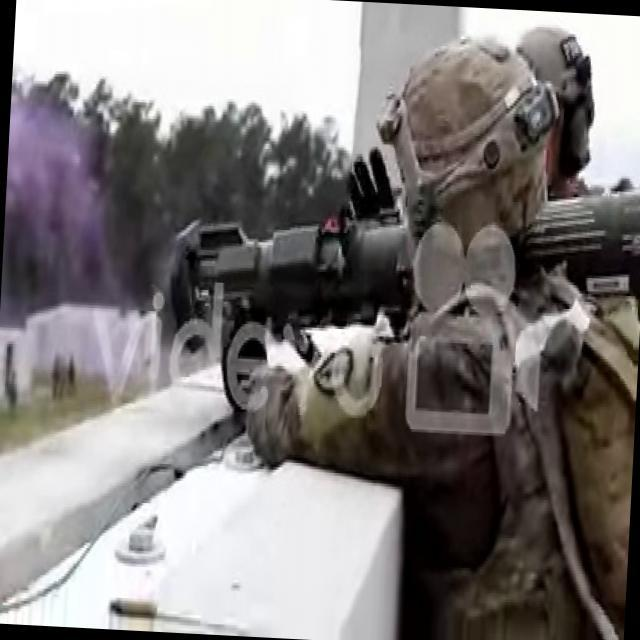rocket: (169, 164, 640, 362)
